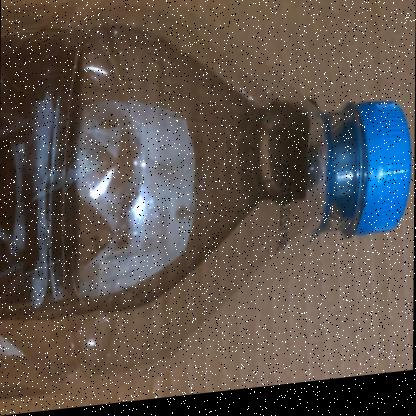bottle cap: (1, 1, 416, 416)
